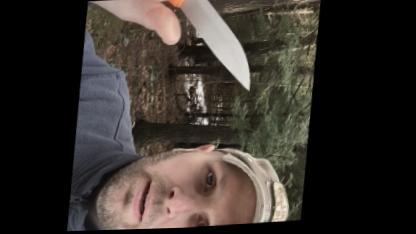knife: (126, 0, 266, 104)
